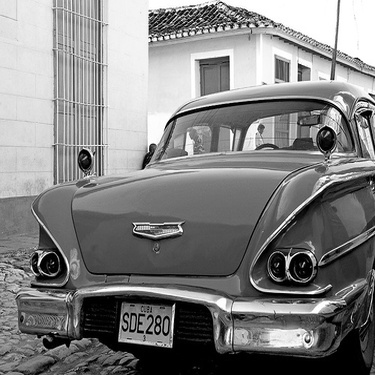car: (3, 55, 370, 370)
